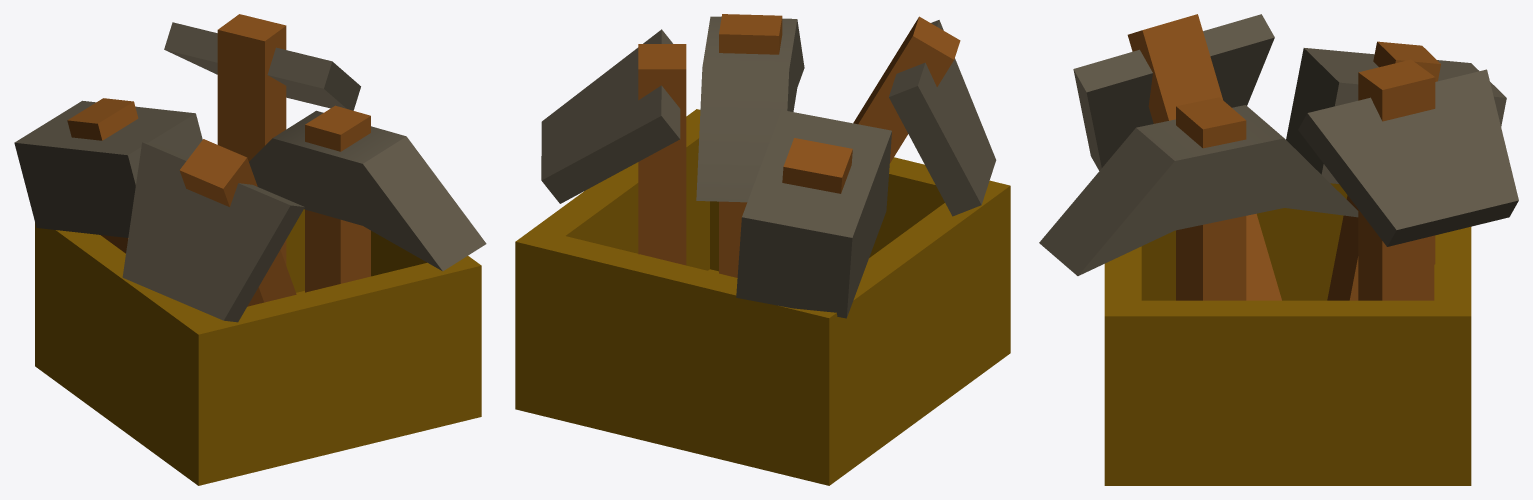
Rendered from toolcrate.fbx.
3 views of the same model, side by side, from view 1: azimuth 30°, elevation 25°; view 2: azimuth 150°, elevation 25°; view 3: azimuth 270°, elevation 25° (orthographic). The views are drawn at different scales.
Parts seen in each view (by area): view 1: polySurface1; view 2: polySurface1; view 3: polySurface1.
Part boxes in pixels (x1,y1,x2,y2): polySurface1: [14, 14, 486, 485]; polySurface1: [515, 14, 1010, 485]; polySurface1: [1039, 14, 1518, 485].
Size of the model in its own units: 14.31 by 13.68 by 16.68.
Materials: 1 (1 with a texture image).
